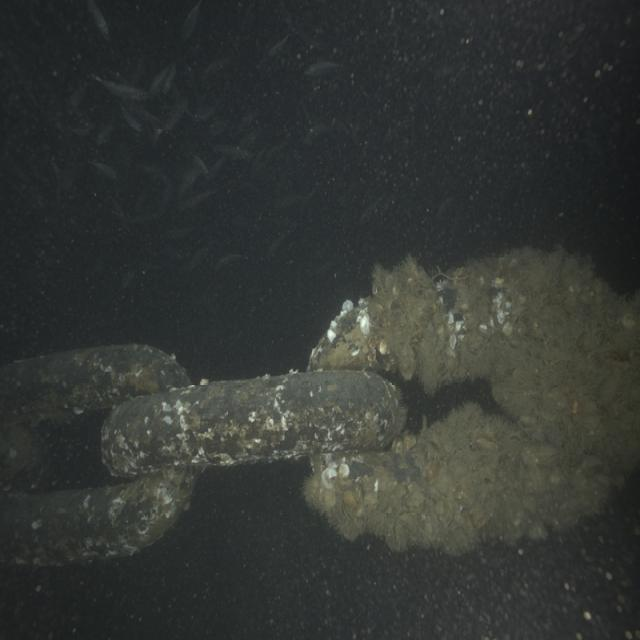ChainLink: (305, 250, 605, 553), (101, 369, 405, 476), (0, 468, 195, 565), (0, 345, 190, 425)
